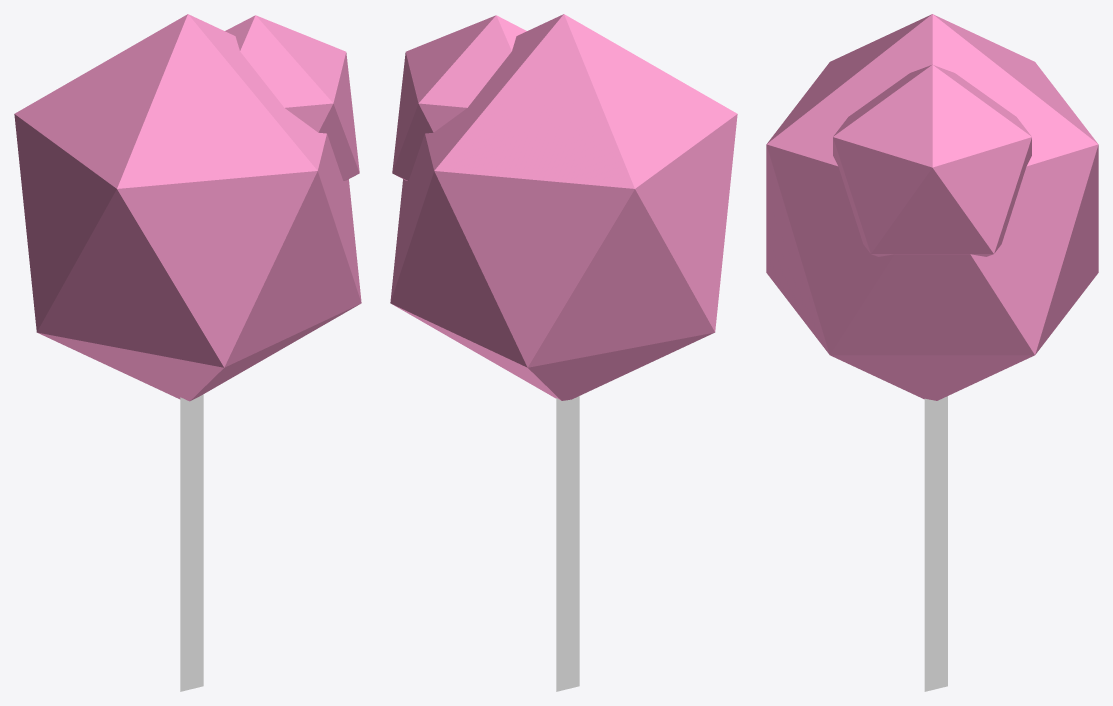
Rendered from good_cotton_candy.glb.
3 renders of one model, left to right at view 1: azimuth 30°, elevation 25°; view 2: azimuth 150°, elevation 25°; view 3: azimuth 270°, elevation 25°, orthographic.
Parts seen in each view (by area): view 1: good_cotton_candy; view 2: good_cotton_candy; view 3: good_cotton_candy.
Part boxes in pixels (x1=…): good_cotton_candy: x1=14, y1=14, x2=361, y2=691; good_cotton_candy: x1=390, y1=14, x2=737, y2=691; good_cotton_candy: x1=766, y1=14, x2=1098, y2=691.
Size of the model in its own units: 0.1831 by 0.38 by 0.1701.
